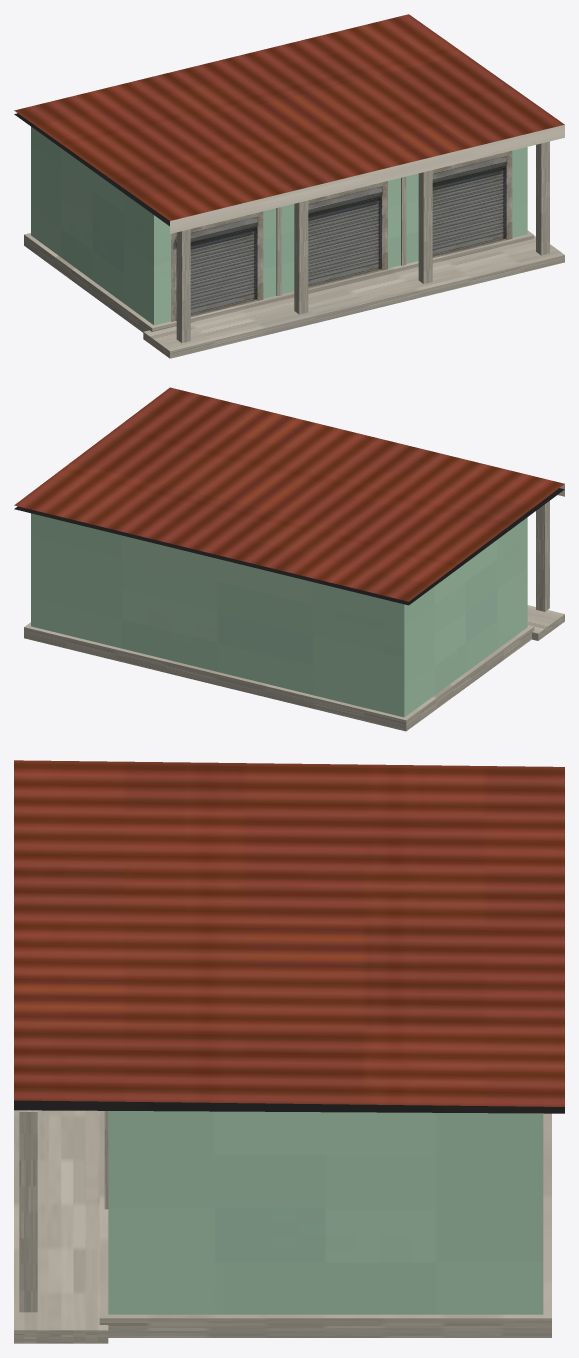
The model's file is shoprow-mint-far.glb.
3 views of the same model, one above another, from view 1: azimuth 30°, elevation 25°; view 2: azimuth 150°, elevation 25°; view 3: azimuth 270°, elevation 25° (orthographic). The views are drawn at different scales.
Visible parts, largest first — view 1: shoprow-mint-far; view 2: shoprow-mint-far; view 3: shoprow-mint-far.
Boxes of the visible parts, x1,y1,x2,y2 form: shoprow-mint-far: (14, 14, 564, 358); shoprow-mint-far: (14, 387, 564, 731); shoprow-mint-far: (14, 760, 564, 1343).
Bounding box in the file's own units: 11.1 × 3.7 × 7.6.
Materials: 1 (1 with a texture image).
